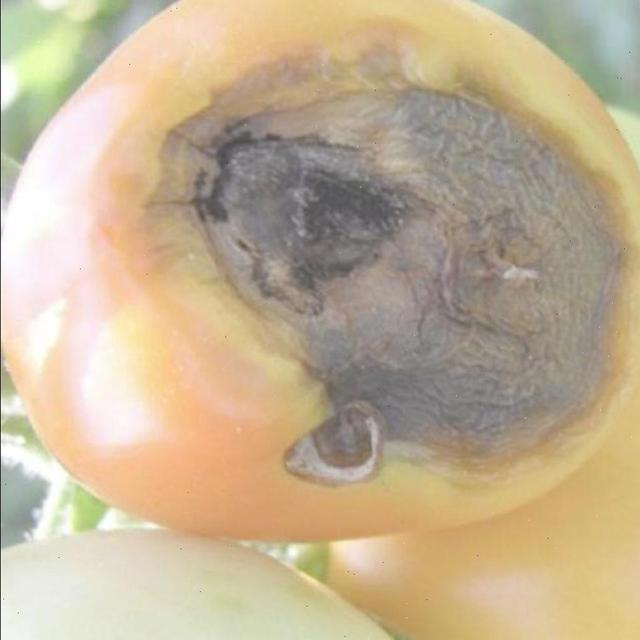Blossom End Rot Fruit: (117, 31, 425, 330)
